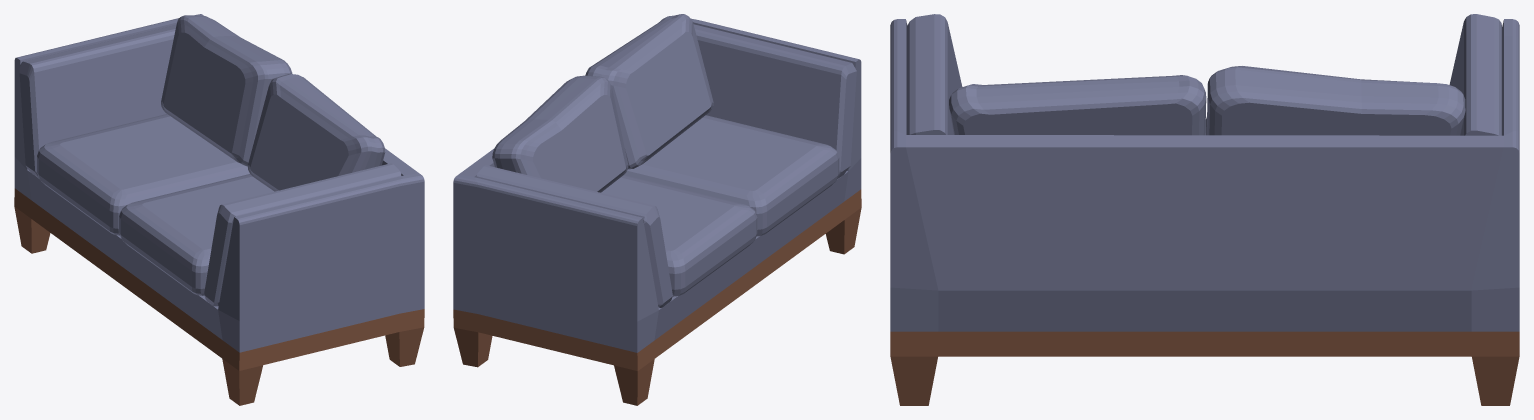
File: loveseat.fbx
The picture shows the model from 3 angles, left to right: view 1: azimuth 30°, elevation 25°; view 2: azimuth 150°, elevation 25°; view 3: azimuth 270°, elevation 25°; orthographic projection. The views are drawn at different scales.
Parts seen in each view (by area): view 1: Cube.009; view 2: Cube.009; view 3: Cube.009.
Boxes of the visible parts, box(x1,y1,x2,y2) form: Cube.009: box(14, 14, 424, 405); Cube.009: box(453, 14, 861, 405); Cube.009: box(890, 14, 1519, 405).
Bounding box in the file's own units: 4.2 × 4.46 × 8.13.
